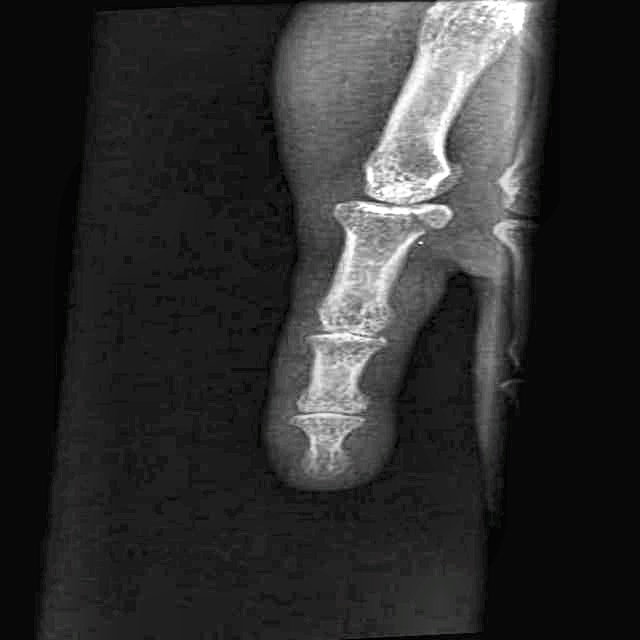Greenstick: (370, 167, 478, 242)
